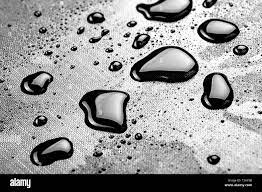Wet-floor: (23, 48, 190, 179), (133, 0, 249, 146)
